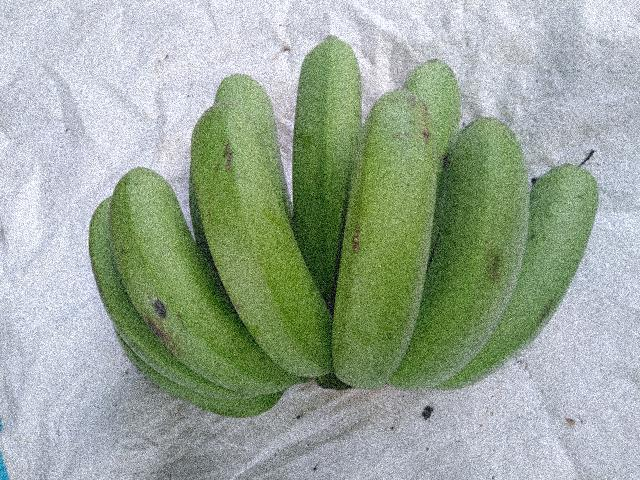unripe: (389, 93, 543, 436), (184, 92, 337, 436), (316, 73, 449, 415), (108, 156, 263, 395), (288, 13, 374, 304)
